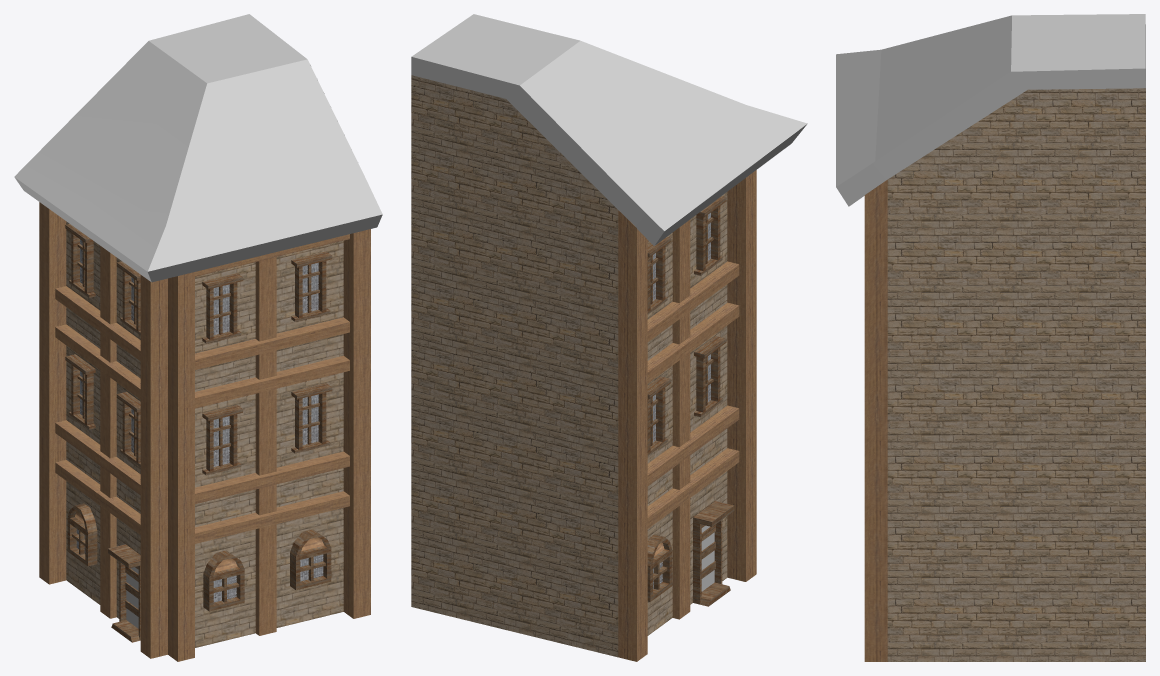
The model's file is townhouse_corner2_combined.fbx.
3 renders of one model, left to right at view 1: azimuth 30°, elevation 25°; view 2: azimuth 150°, elevation 25°; view 3: azimuth 270°, elevation 25°, orthographic. The views are drawn at different scales.
Parts seen in each view (by area): view 1: pCube78; view 2: pCube78; view 3: pCube78.
Boxes of the visible parts, x1=… form: pCube78: x1=14, y1=14, x2=382, y2=661; pCube78: x1=411, y1=14, x2=807, y2=661; pCube78: x1=836, y1=14, x2=1145, y2=661.
Size of the model in its own units: 36.62 by 76.07 by 36.
